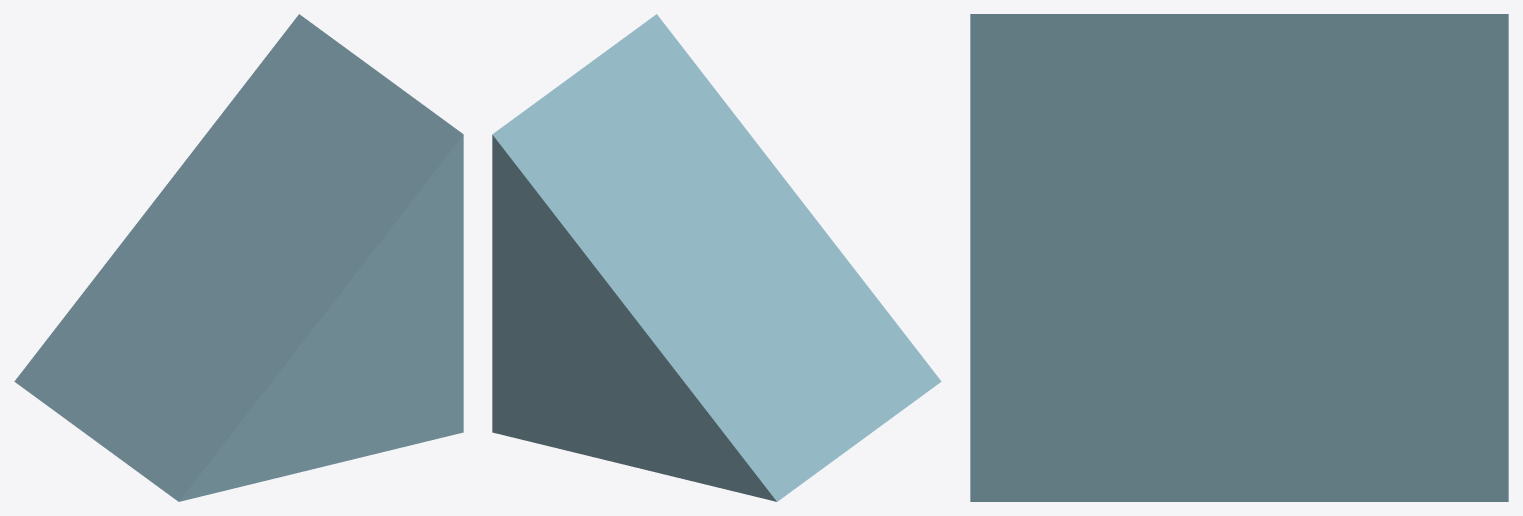
Rendered from ThinConveyor_Slope.glb.
3 views of the same model, side by side, from view 1: azimuth 30°, elevation 25°; view 2: azimuth 150°, elevation 25°; view 3: azimuth 270°, elevation 25° (orthographic). The views are drawn at different scales.
Visible parts, largest first — view 1: ThinConveyor_Slope_body; view 2: ThinConveyor_Slope_body; view 3: ThinConveyor_Slope_body.
Part boxes in pixels (box(x1,y1,x2,y2)): ThinConveyor_Slope_body: box(14, 14, 463, 501); ThinConveyor_Slope_body: box(492, 14, 941, 501); ThinConveyor_Slope_body: box(970, 14, 1508, 501).
Size of the model in its own units: 1 by 1 by 1.
